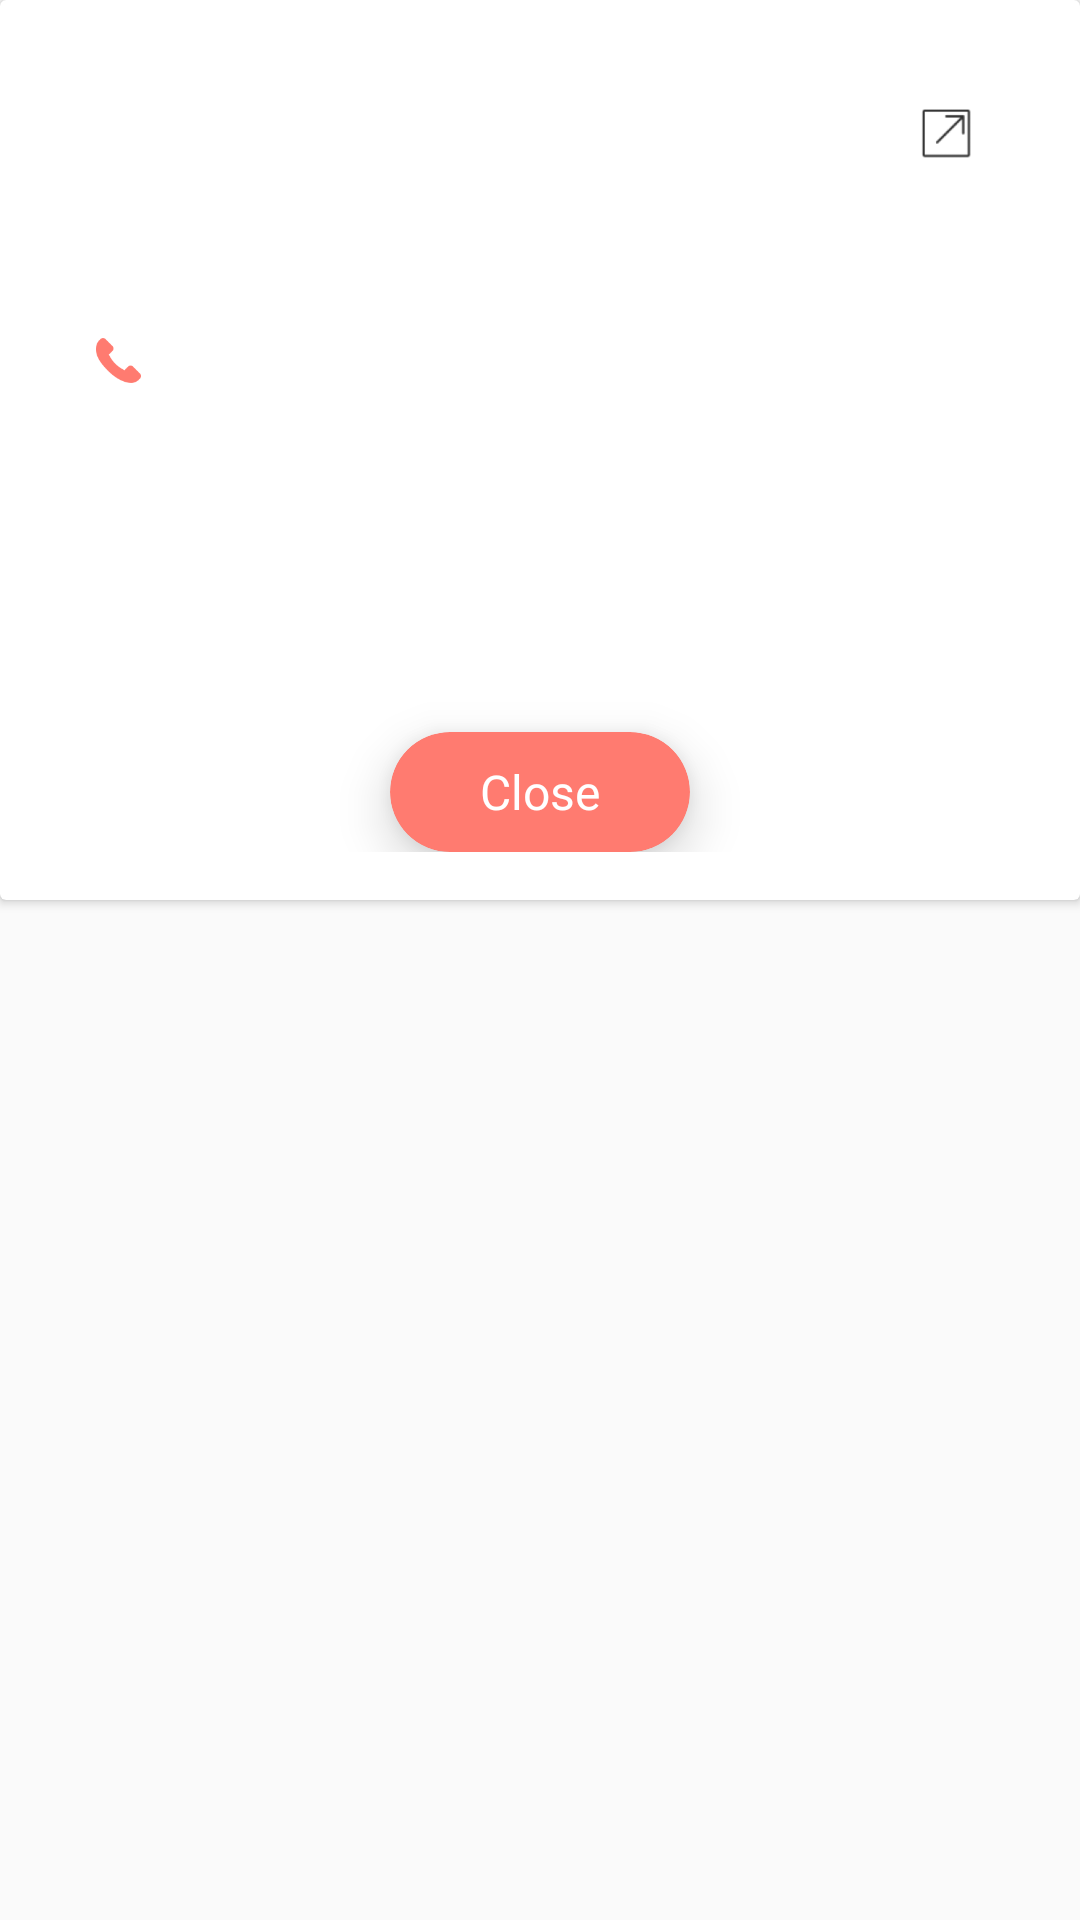

Locate icon controls on the screen. Image size 1080px x 1920px, boxes as [left=x1, top=y1, right=x2, bottom=y2].
phonecall: [left=96, top=338, right=141, bottom=383]
